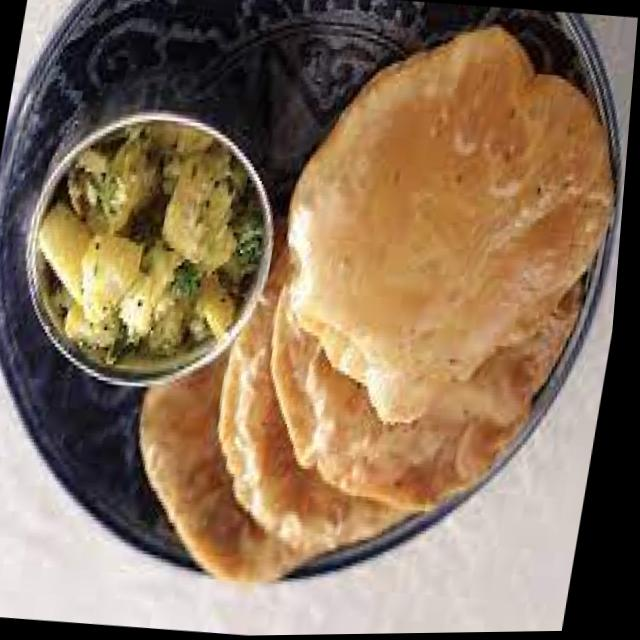CURRY: (36, 121, 268, 372)
POORI: (139, 21, 616, 587)
